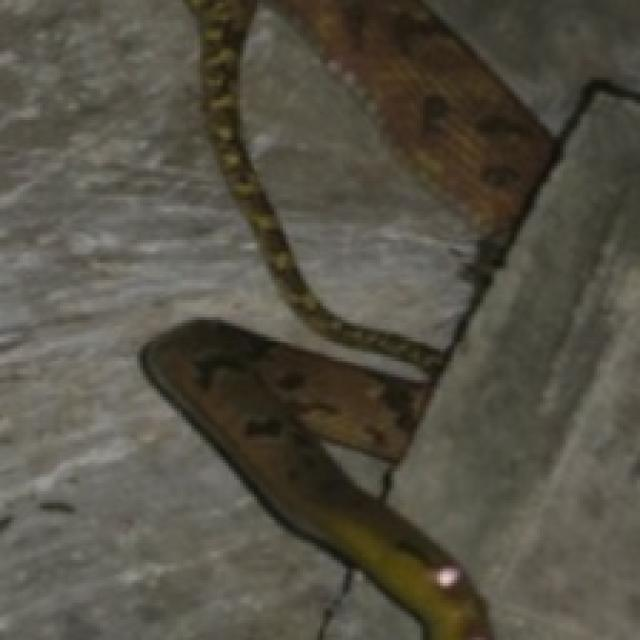dog-toothed cat snake: (142, 0, 492, 640), (273, 0, 552, 292)
